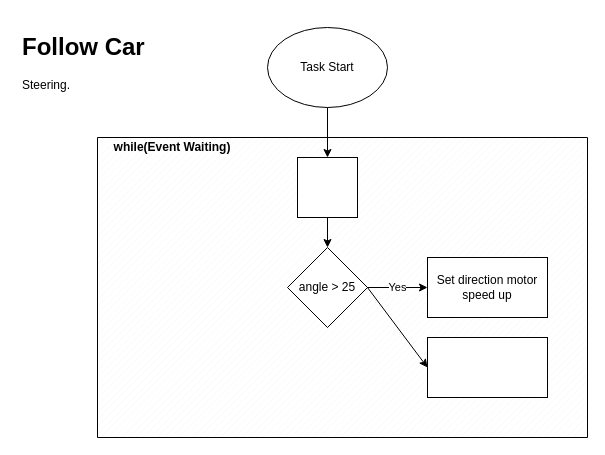
This 605x455 diagram has some shape labels left out. The centre of each missing label's shape, as x and y in pixels:
"Angle Min Max calibration" goes at [327,187].
"Set default diection motor speed" goes at [487,367].
